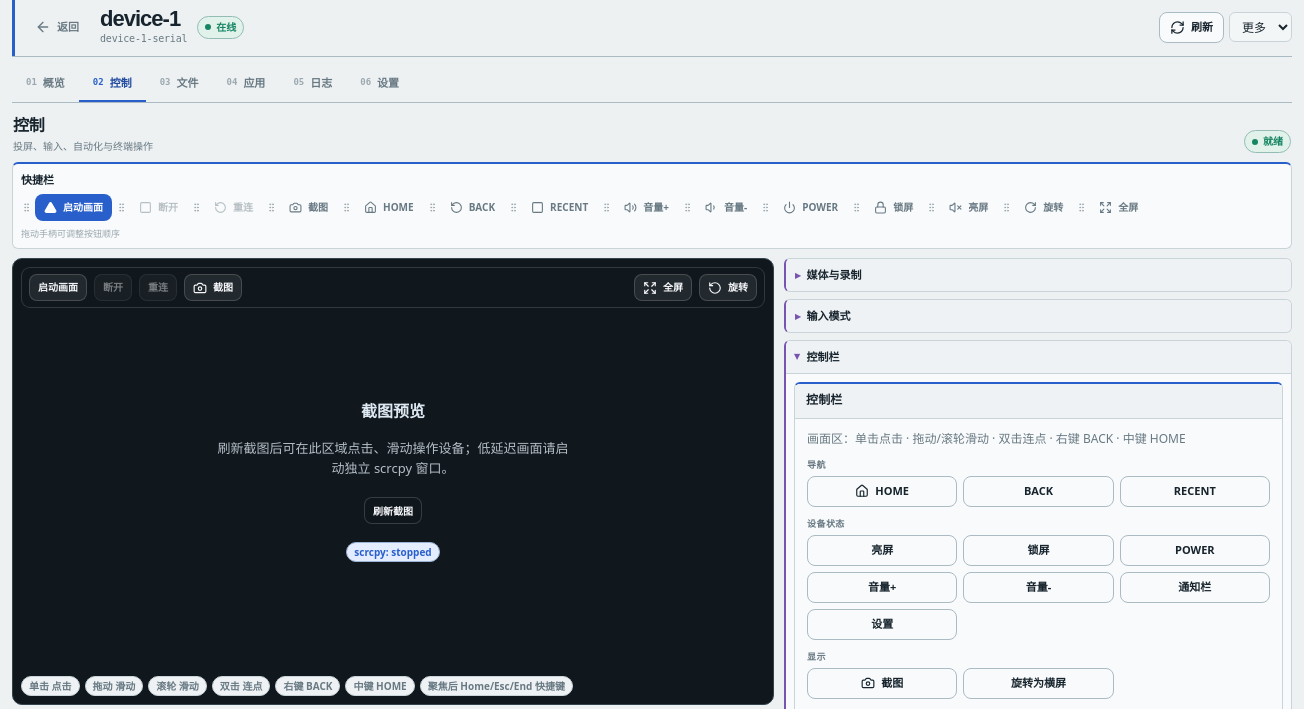
DeviceDetail refresh ordering › does not show an older device screenshot after the device refreshes
Click the button "截图" below "快捷栏": click(308, 208) [280,194,337,221]
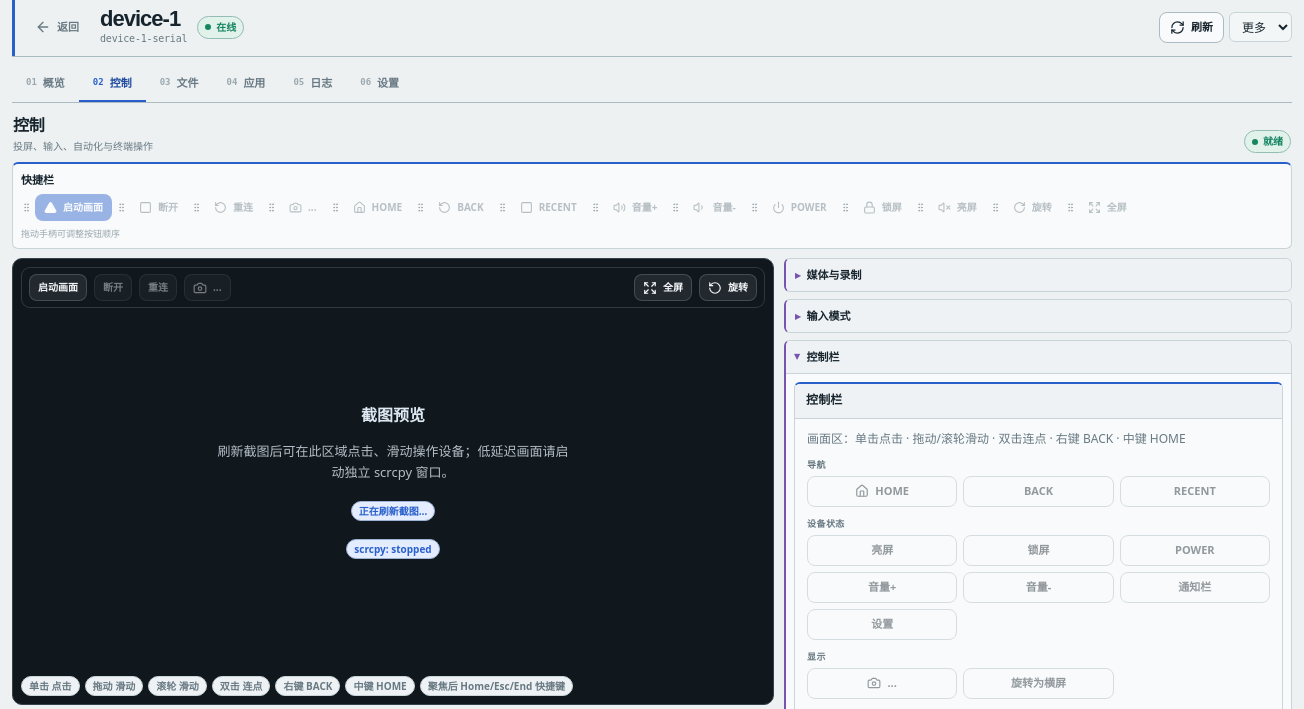
Click the button "刷新": click(1192, 27) [1159,12,1224,43]
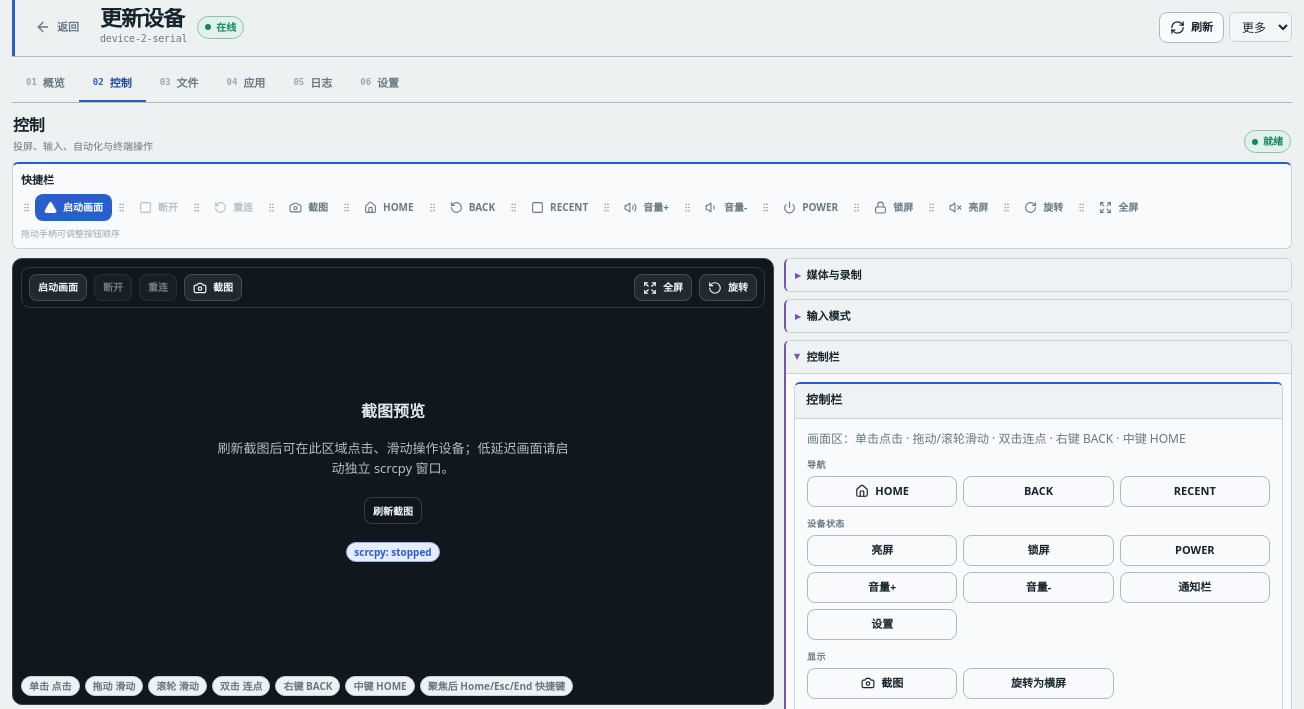
expect the text "更新设备" is shown: met, box [100,8,187,30]
